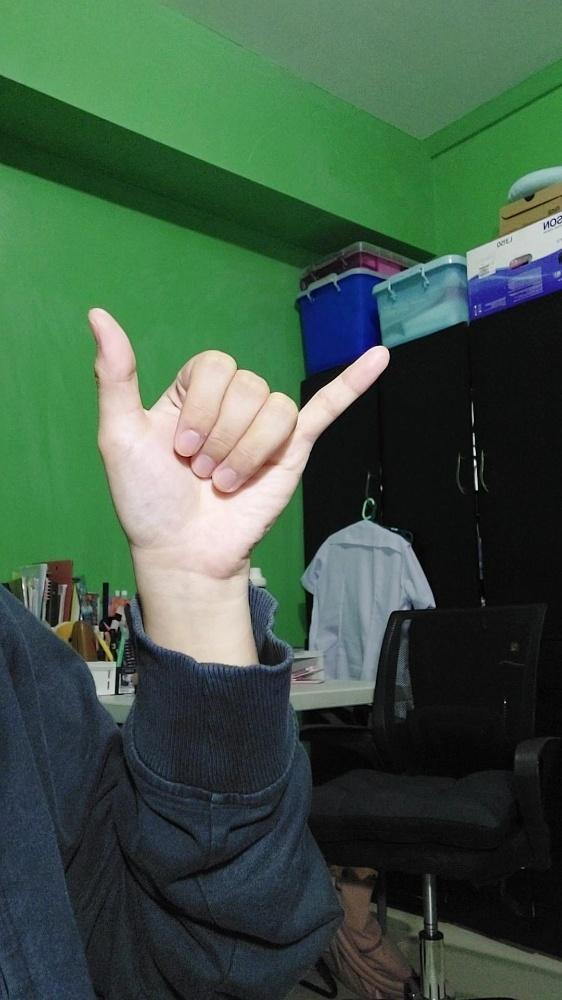y: (87, 306, 390, 579)
